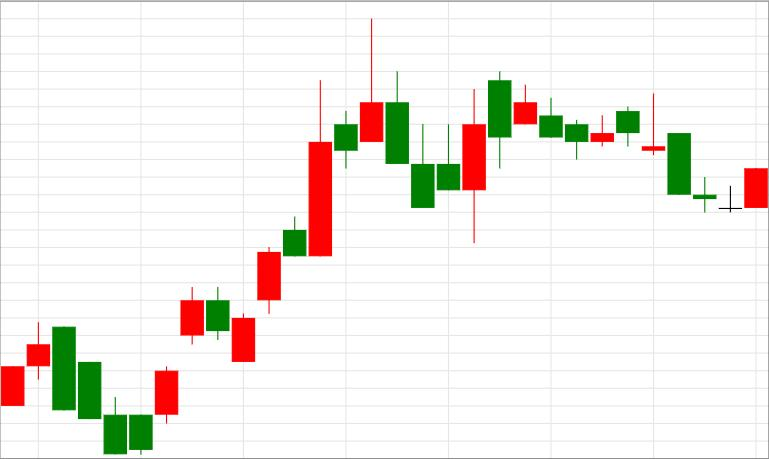shooting_star_fall: (232, 18, 383, 362)
